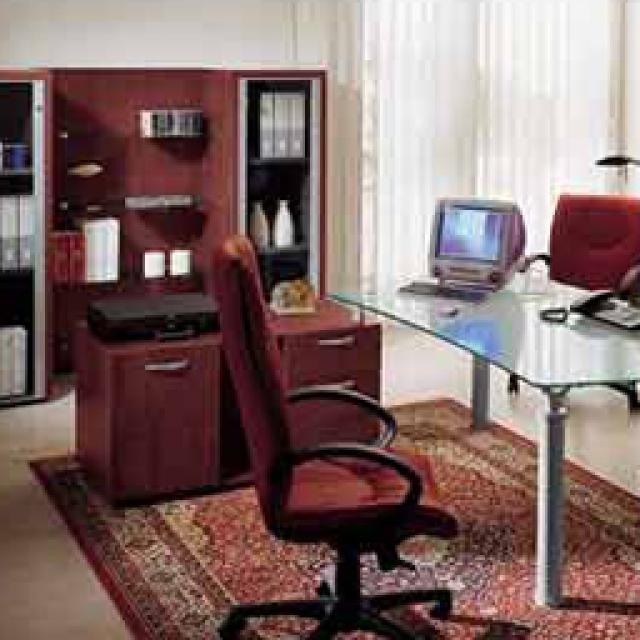2001: (358, 0, 635, 288)
books crop: (50, 212, 115, 278), (135, 108, 202, 135)
bookshelves: (0, 63, 328, 402)
briefcase: (75, 275, 232, 345)
cabinet door: (70, 312, 222, 508)
cabinets: (65, 288, 378, 508)
chair: (515, 190, 635, 290)
chair -occluded-: (212, 225, 448, 630)
curtain crop: (288, 0, 620, 330)
desk calendar: (318, 248, 635, 605)
folders: (255, 88, 305, 158), (0, 192, 30, 268), (0, 322, 28, 395)
keyboard crop: (392, 268, 488, 300)
lamp crop: (585, 148, 635, 190)
monitor crop: (422, 195, 522, 282)
mouse pad: (428, 295, 460, 315)
phone charger: (562, 288, 638, 328), (568, 285, 635, 320)
rug -partially obscured-: (20, 392, 635, 635)
statue: (265, 278, 312, 312)
vase -X: (270, 195, 292, 245), (248, 198, 270, 245)
